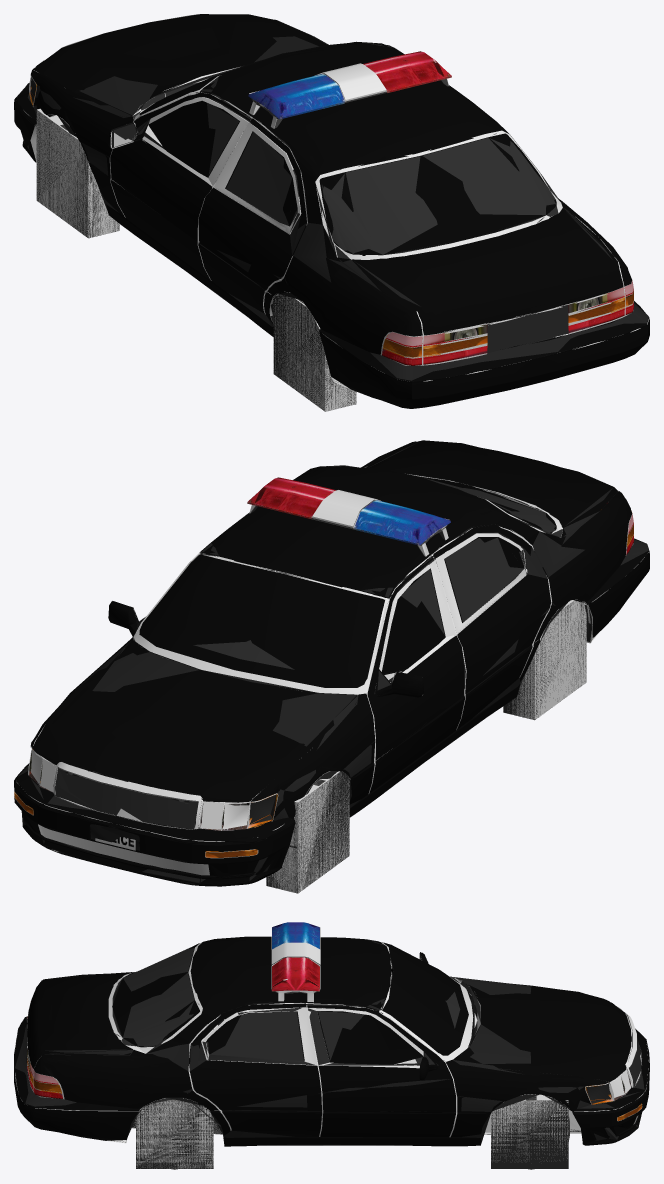
File: police_lexus.fbx
3 views of the same model, one above another, from view 1: azimuth 30°, elevation 25°; view 2: azimuth 150°, elevation 25°; view 3: azimuth 270°, elevation 25° (orthographic). The views are drawn at different scales.
Visible parts, largest first — view 1: body (×4), lod2_black, lod1_black, lod1_window, lod3_black, black, flash_blue_lights, flash_red_lights, lod1_orange_lights, lod1_chrome, rear_lights, left_orange_lights (+1 smaller); view 2: body (×4), lod1_window, lod1_black, lod2_black, lod3_black, black, lod1_chrome, flash_blue_lights, flash_red_lights, lod3_front_lights; view 3: body (×4), lod2_black, lod1_black, lod1_window, lod3_black, black, flash_red_lights, lod1_chrome, flash_blue_lights, lod1_orange_lights.
Boxes of the visible parts, bbox=[...] form: body (×4): bbox=[14, 14, 649, 408]; lod2_black: bbox=[36, 43, 563, 411]; lod1_black: bbox=[29, 43, 607, 411]; lod1_window: bbox=[139, 41, 556, 255]; lod3_black: bbox=[36, 82, 568, 409]; black: bbox=[23, 74, 649, 389]; flash_blue_lights: bbox=[248, 74, 344, 119]; flash_red_lights: bbox=[363, 51, 451, 92]; lod1_orange_lights: bbox=[29, 84, 633, 355]; lod1_chrome: bbox=[249, 59, 448, 128]; rear_lights: bbox=[382, 288, 633, 365]; left_orange_lights: bbox=[30, 98, 487, 357]; body (×4): bbox=[14, 440, 649, 886]; lod1_window: bbox=[139, 466, 556, 687]; lod1_black: bbox=[28, 474, 629, 893]; lod2_black: bbox=[55, 465, 592, 892]; lod3_black: bbox=[54, 465, 593, 893]; black: bbox=[15, 467, 648, 884]; lod1_chrome: bbox=[53, 490, 449, 829]; flash_blue_lights: bbox=[354, 500, 450, 545]; flash_red_lights: bbox=[247, 477, 335, 519]; lod3_front_lights: bbox=[31, 749, 249, 829]; body (×4): bbox=[14, 936, 649, 1146]; lod2_black: bbox=[113, 944, 641, 1168]; lod1_black: bbox=[27, 942, 641, 1168]; lod1_window: bbox=[112, 942, 468, 1064]; lod3_black: bbox=[27, 946, 639, 1168]; black: bbox=[15, 964, 648, 1145]; flash_red_lights: bbox=[271, 957, 319, 991]; lod1_chrome: bbox=[271, 927, 641, 1087]; flash_blue_lights: bbox=[272, 922, 319, 949]; lod1_orange_lights: bbox=[27, 1049, 612, 1104].
Bounding box in the file's own units: 2.02 × 1.41 × 4.69.
